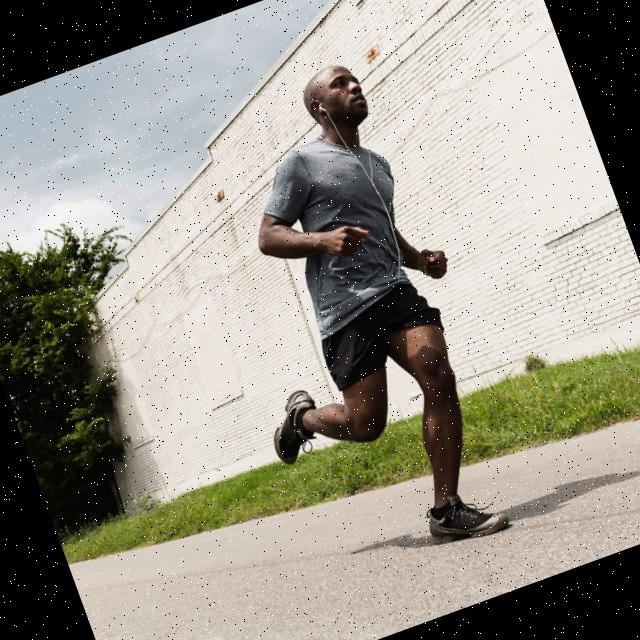Person: (158, 51, 542, 592)
